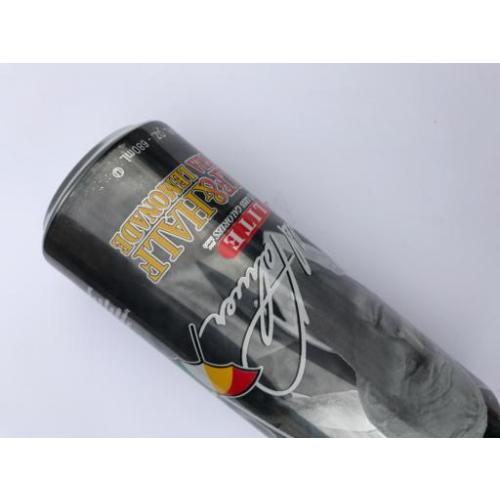metal: (39, 119, 500, 438)
